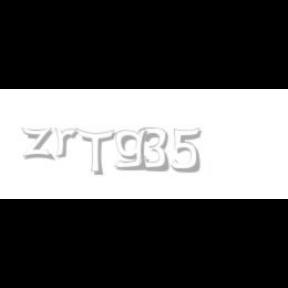3: (140, 128, 170, 172)
5: (171, 128, 202, 174)
T: (75, 128, 115, 176)
g: (115, 128, 152, 171)
r: (54, 128, 82, 158)
z: (21, 128, 57, 160)
